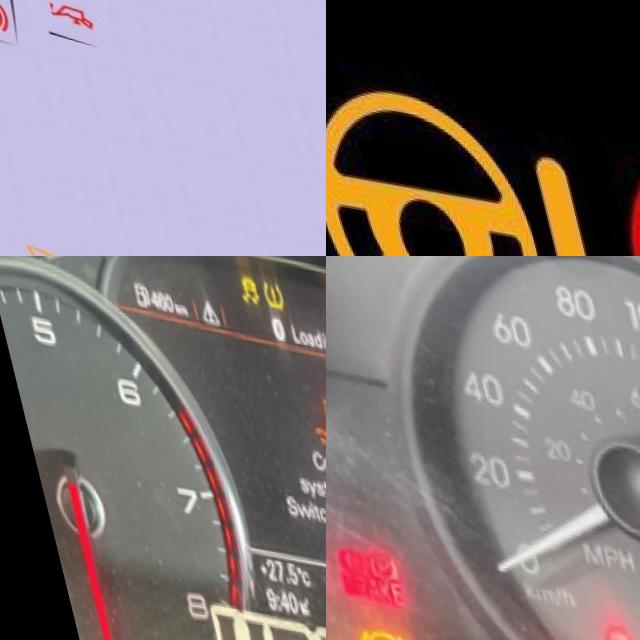Electronic Power Steering: (326, 70, 596, 256)
High Engine Coolant Temperature: (288, 379, 326, 444)
